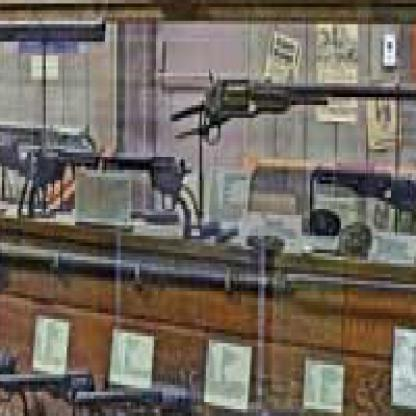gun: (86, 111, 216, 250), (0, 322, 123, 413), (83, 350, 206, 413), (179, 382, 322, 413), (0, 333, 44, 412)
